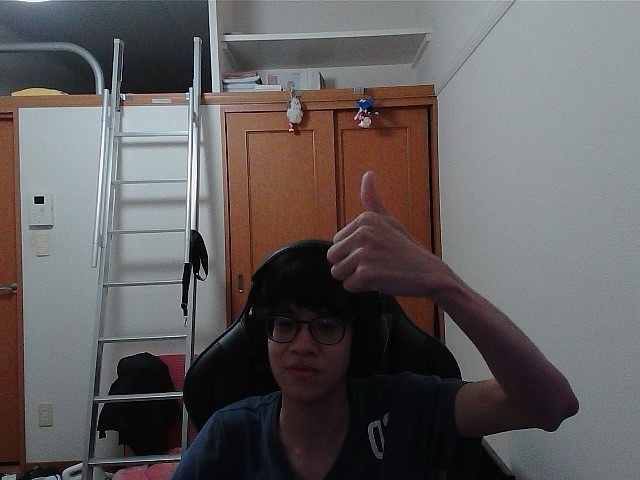thumb_up: (333, 179, 423, 286)
